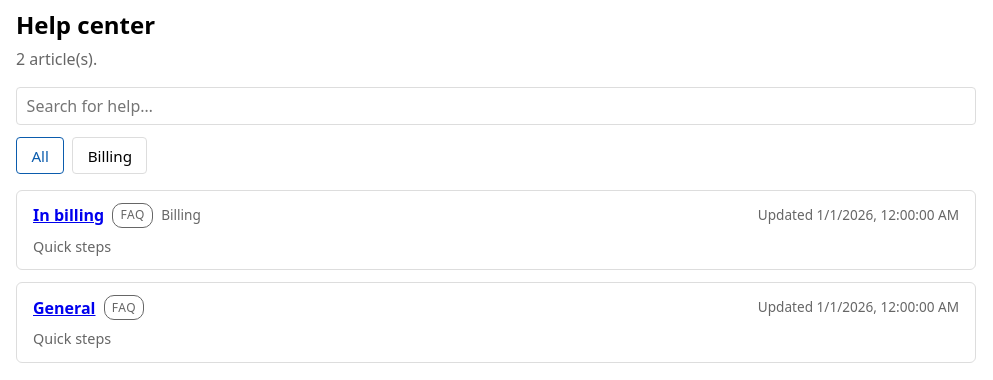
Test: PortalKnowledgeBasePage › filters by category chip
Check: the text "In billing" is shown, box top-left (33, 204), bottom-right (104, 226)
Click the button "Billing".
click(110, 156)  # box top-left (72, 137), bottom-right (147, 174)
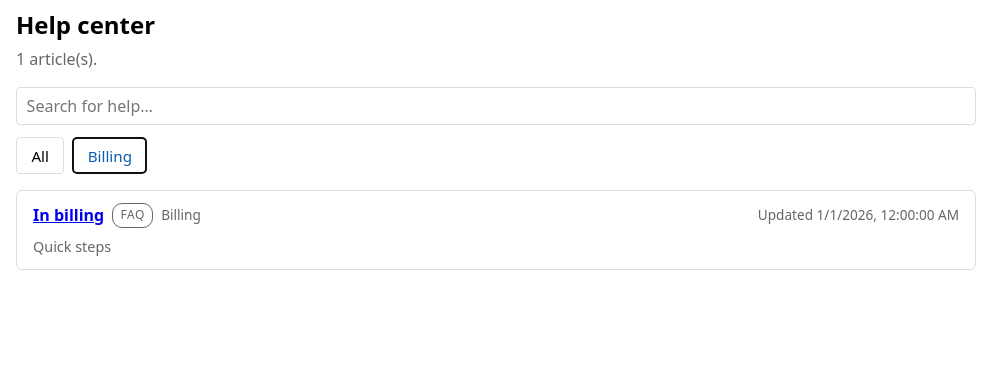
Check: the text "In billing" is shown, box top-left (33, 204), bottom-right (104, 226)
Check: the link "General" is gone
